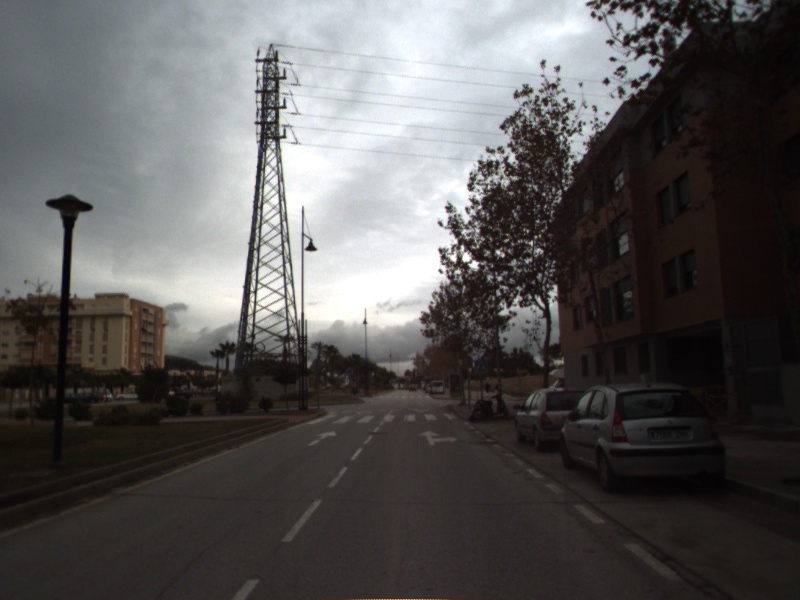STRAIGHT: (306, 428, 339, 448)
STRAIGHT_RIGHT: (416, 428, 460, 448)
